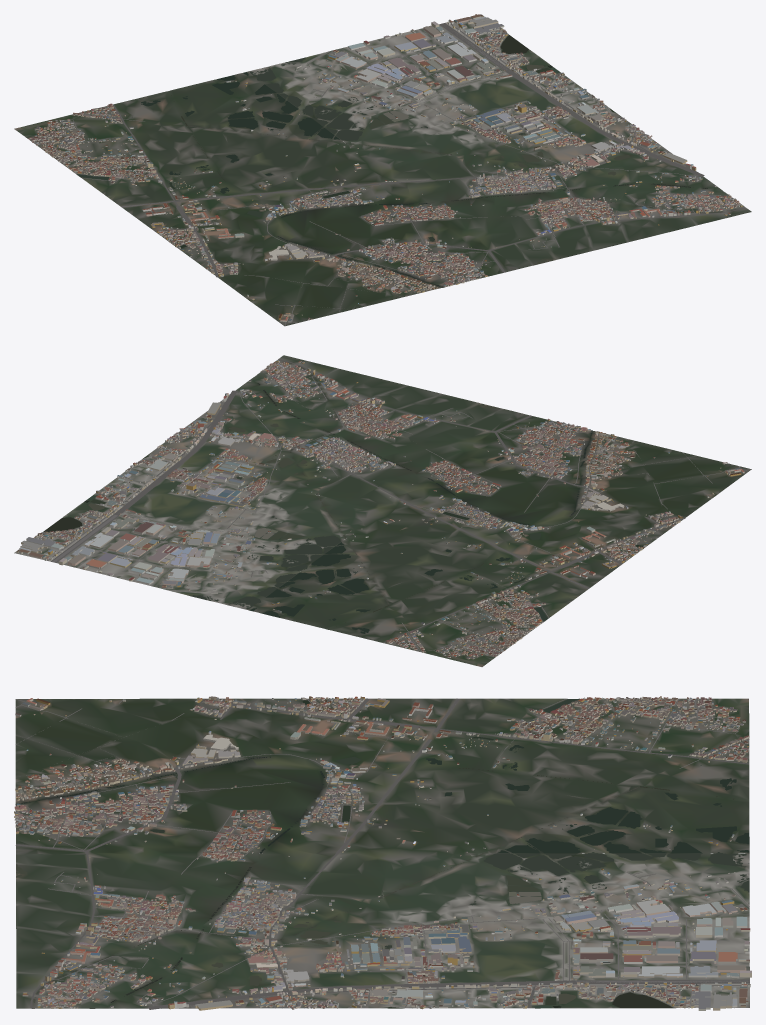
3 views of the same model, one above another, from view 1: azimuth 30°, elevation 25°; view 2: azimuth 150°, elevation 25°; view 3: azimuth 270°, elevation 25° (orthographic). The views are drawn at different scales.
Parts seen in each view (by area): view 1: ground, buildings, roads, water; view 2: ground, buildings, water, roads; view 3: ground, buildings, water, roads.
Part boxes in pixels (x1,y1,x2,y2): ground: (14,14,751,326); buildings: (28,14,742,322); roads: (34,23,746,326); water: (77,35,735,287); ground: (14,355,751,666); buildings: (16,360,744,659); water: (43,363,642,633); roads: (41,359,750,653); ground: (15,698,749,1008); buildings: (14,696,751,1010); water: (15,698,749,1008); roads: (15,698,749,1009).
Size of the model in its own units: 2831 by 33.7 by 2820.
